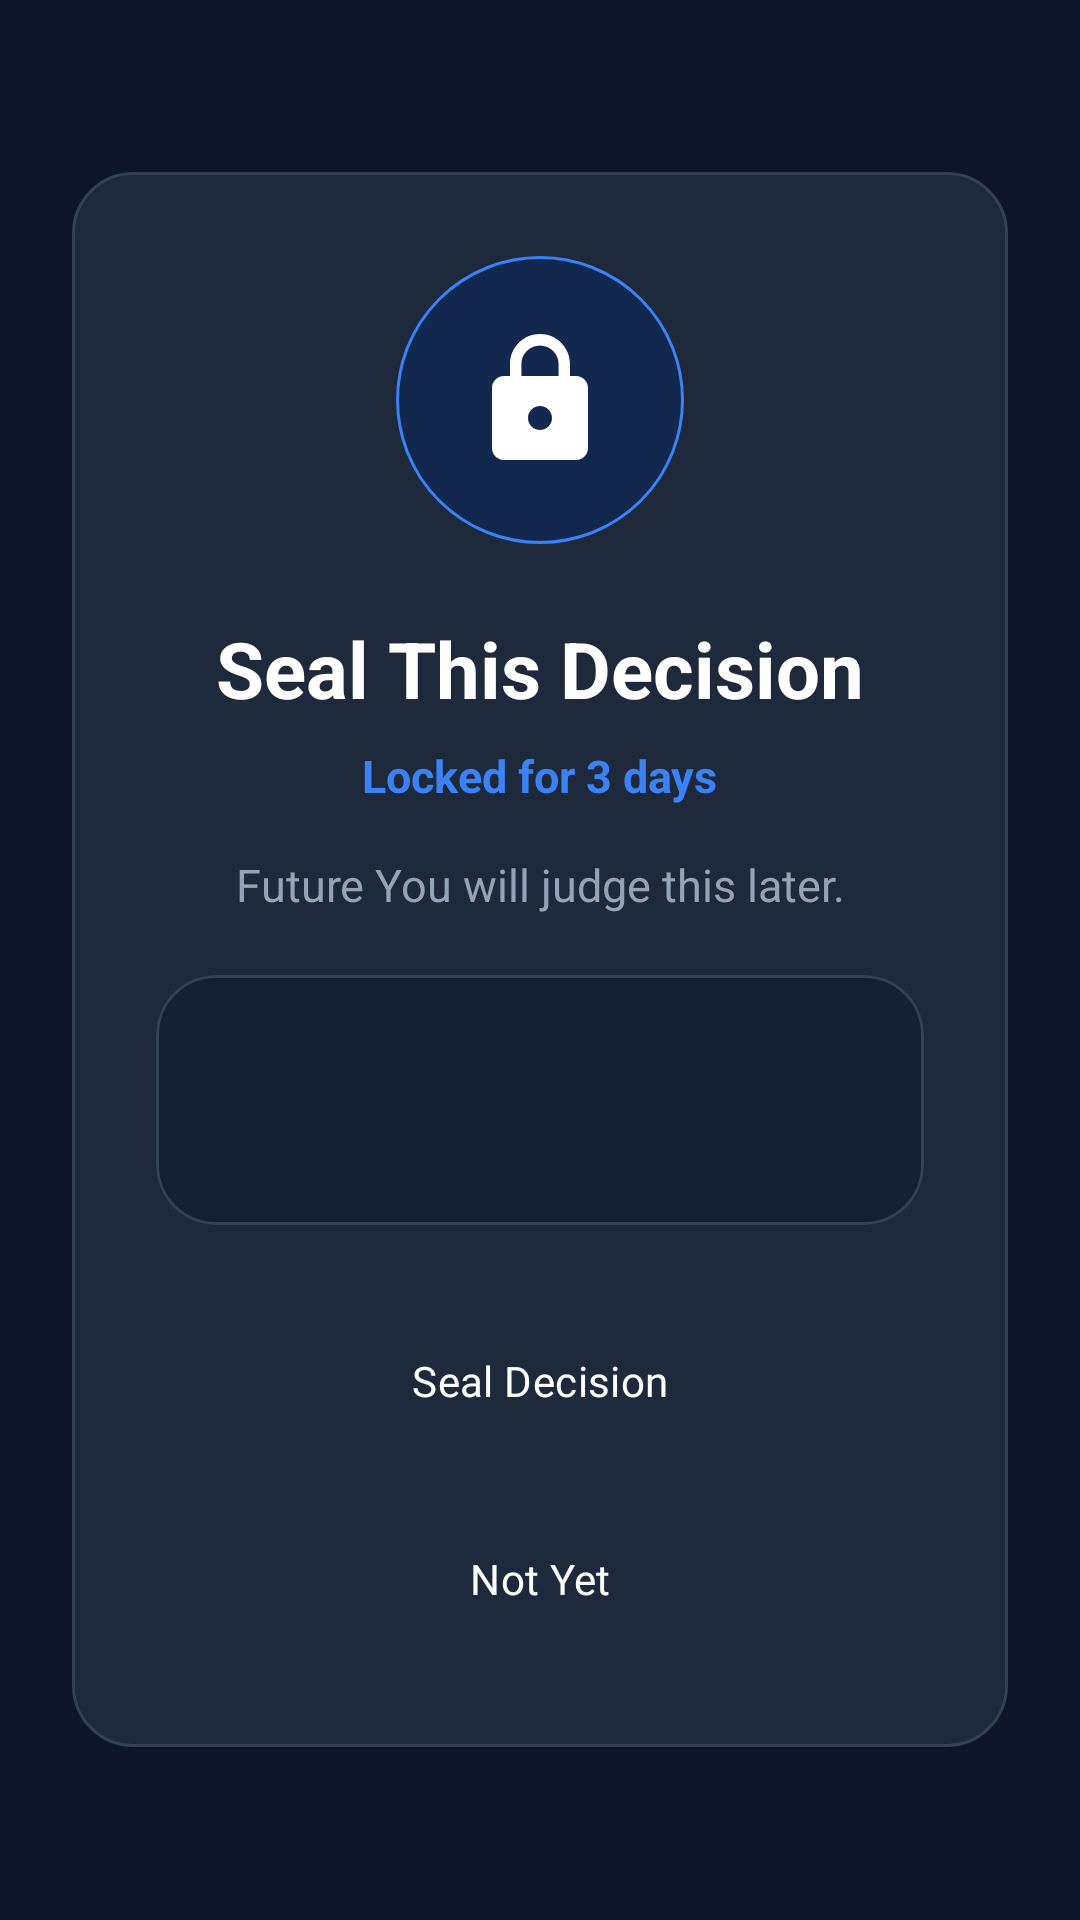

Screen size 1080 × 1920. Icon name, then its center in pixels as point (x, y):
lock: point (540, 397)
